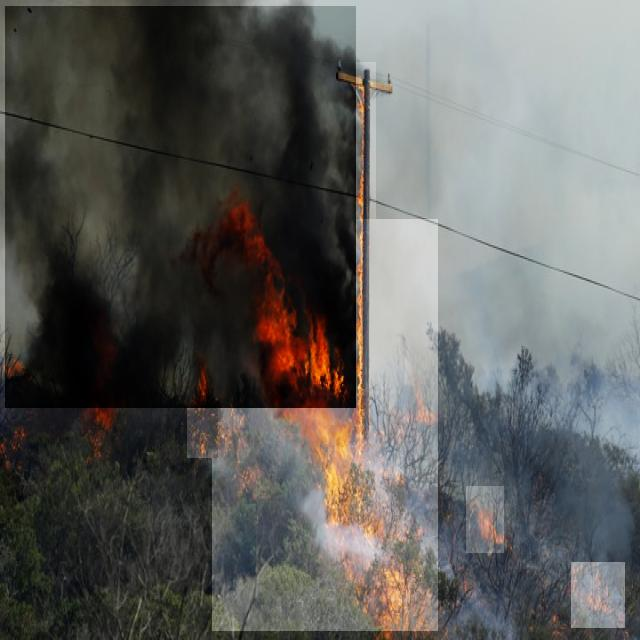Fire: (212, 219, 438, 631), (340, 62, 376, 424), (77, 310, 128, 458), (572, 562, 626, 628), (187, 362, 218, 458), (466, 486, 504, 553)
Smoke: (5, 6, 356, 408)
